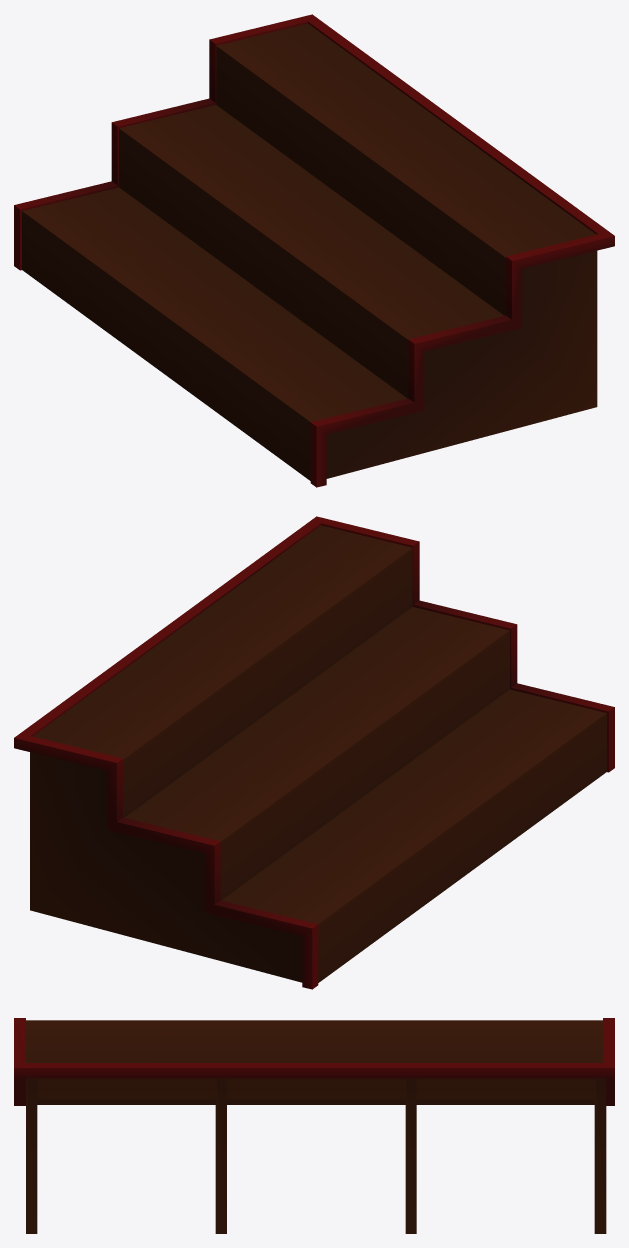
The model's file is Cheap Seats.fbx.
The picture shows the model from 3 angles, top to bottom: view 1: azimuth 30°, elevation 25°; view 2: azimuth 150°, elevation 25°; view 3: azimuth 270°, elevation 25°; orthographic projection.
Parts seen in each view (by area): view 1: Cheap Seats.000; view 2: Cheap Seats.000; view 3: Cheap Seats.000.
Part boxes in pixels (<box>): Cheap Seats.000: <box>14,14,614,487</box>; Cheap Seats.000: <box>14,516,614,989</box>; Cheap Seats.000: <box>14,1018,614,1233</box>.
Bounding box in the file's own units: 187 × 107 × 329.
